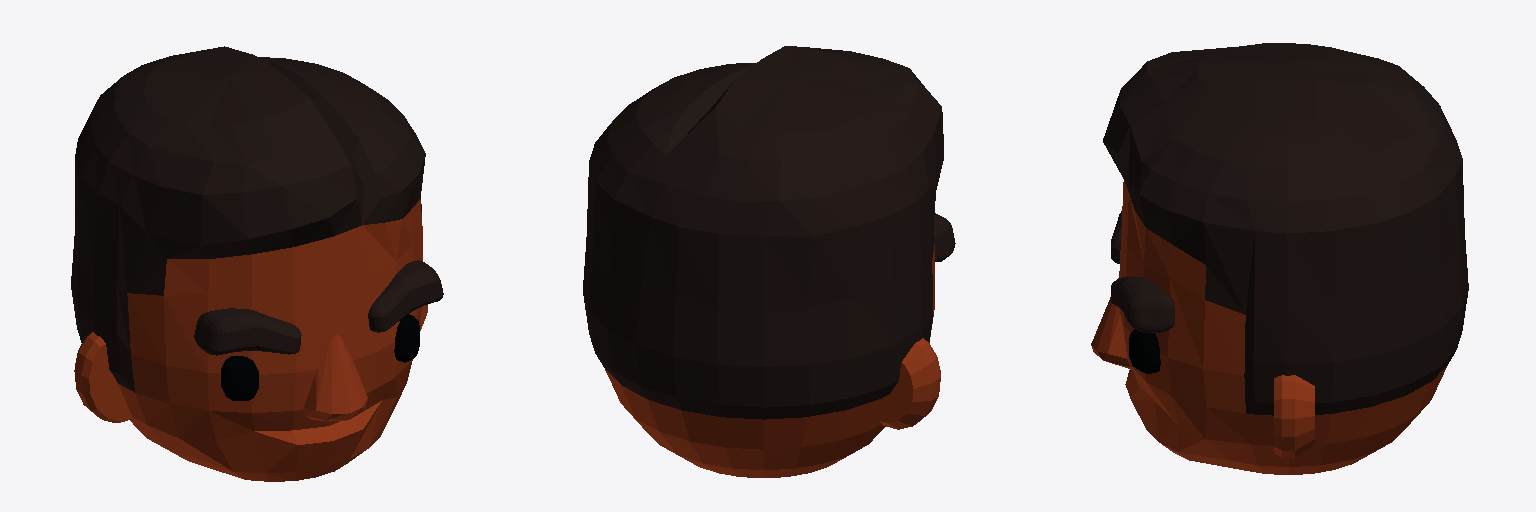
The model's file is knightHeadB.obj.
The picture shows the model from 3 angles: view 1: azimuth 30°, elevation 25°; view 2: azimuth 150°, elevation 25°; view 3: azimuth 270°, elevation 25°; orthographic projection.
Visible parts, largest first — view 1: knightHeadB_Cube.3515; view 2: knightHeadB_Cube.3515; view 3: knightHeadB_Cube.3515.
Part boxes in pixels (x1,y1,x2,y2): knightHeadB_Cube.3515: (71, 46, 443, 481); knightHeadB_Cube.3515: (583, 46, 955, 477); knightHeadB_Cube.3515: (1091, 43, 1468, 474).
Size of the model in its own units: 1.18 by 1.19 by 1.11.